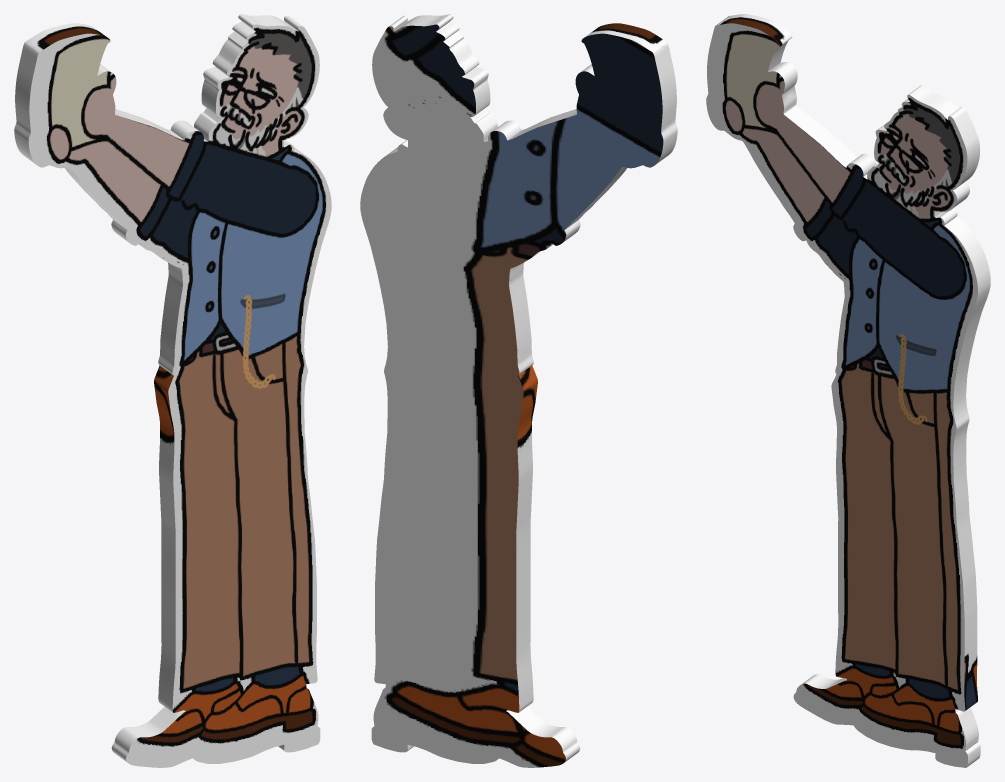
The model's file is asset.glb.
3 views of the same model, side by side, from view 1: azimuth 30°, elevation 25°; view 2: azimuth 150°, elevation 25°; view 3: azimuth 330°, elevation 25° (orthographic). The views are drawn at different scales.
Visible parts, largest first — view 1: Asset 2; view 2: Asset 2; view 3: Asset 2.
Boxes of the visible parts, x1,y1,x2,y2 form: Asset 2: (14,14,331,767); Asset 2: (360,14,677,767); Asset 2: (706,14,990,767).
Size of the model in its own units: 1.07 by 2.59 by 0.0873.
1 material, 1 textured.
